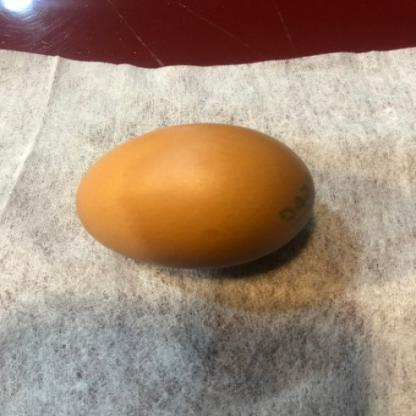egg: (75, 112, 324, 272)
